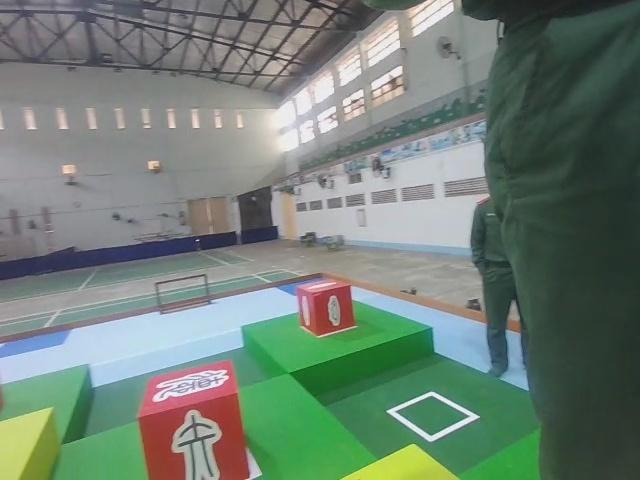R2 Fake: (135, 355, 253, 480)
R2 Real: (294, 273, 359, 341)
